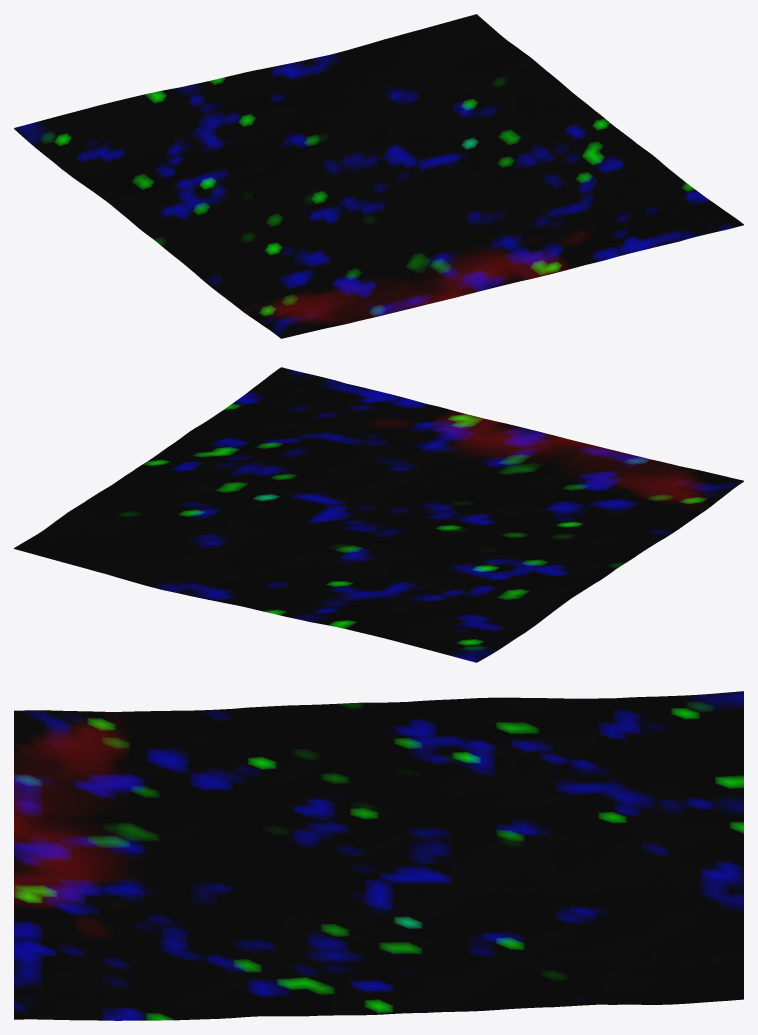
Rendered from coast_800_-1600_800.glb.
3 views of the same model, one above another, from view 1: azimuth 30°, elevation 25°; view 2: azimuth 150°, elevation 25°; view 3: azimuth 270°, elevation 25° (orthographic). The views are drawn at different scales.
Visible parts, largest first — view 1: terrain; view 2: terrain; view 3: terrain.
Part boxes in pixels (x1,y1,x2,y2): terrain: (14,14,743,338); terrain: (14,367,743,662); terrain: (14,691,743,1020).
Size of the model in its own units: 800 by 30.69 by 800.
